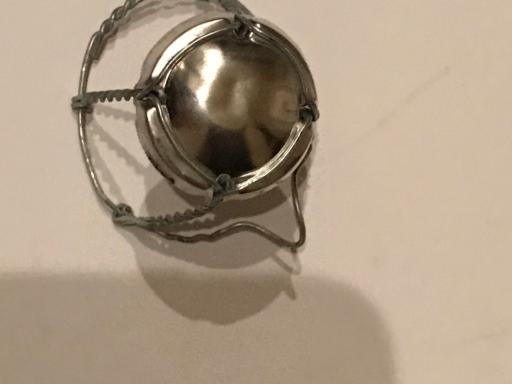metal: (70, 1, 320, 247)
